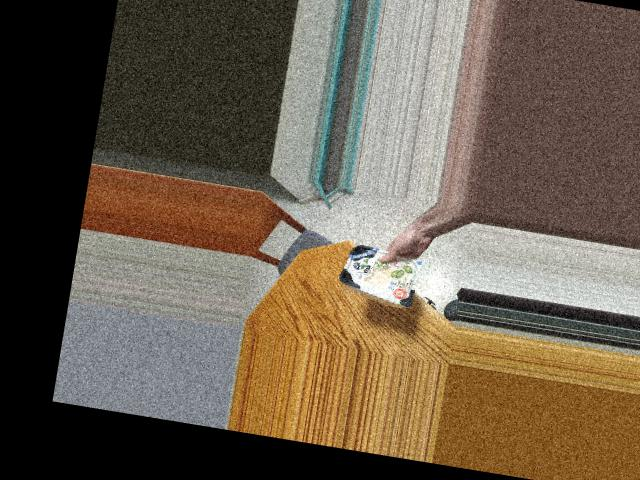cheese: (345, 236, 410, 306)
